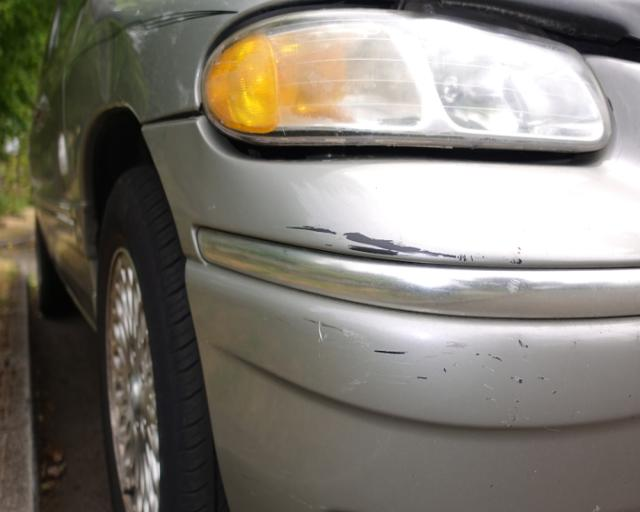scratch: (340, 327, 566, 420), (292, 215, 488, 264)
